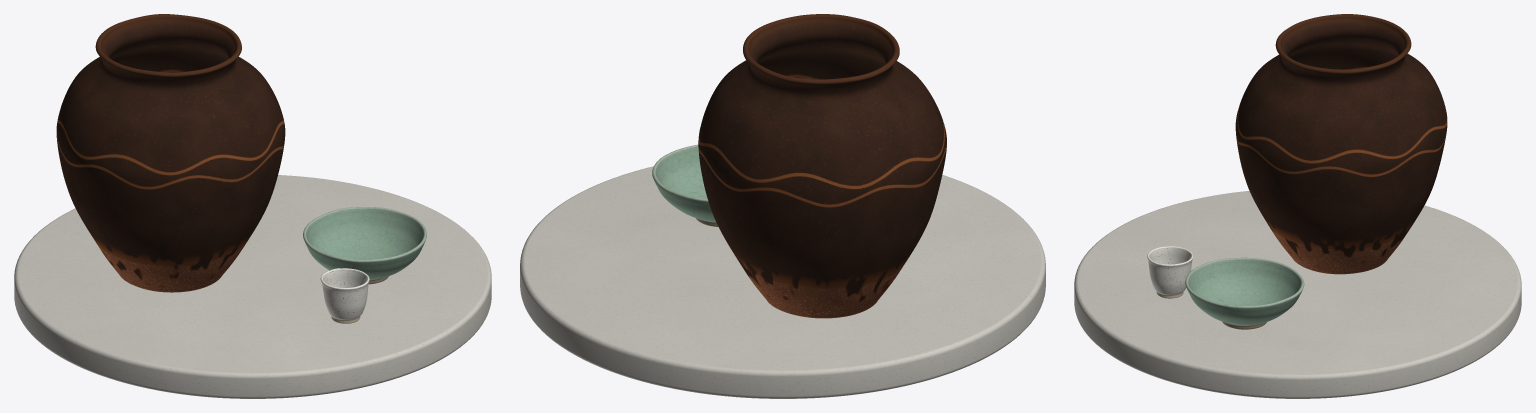
Rendered from onggi-set-blender.glb.
3 views of the same model, side by side, from view 1: azimuth 30°, elevation 25°; view 2: azimuth 150°, elevation 25°; view 3: azimuth 270°, elevation 25° (orthographic). The views are drawn at different scales.
Parts seen in each view (by area): view 1: plinth, jar, bowl, cup; view 2: plinth, jar, bowl; view 3: plinth, jar, bowl, cup.
Boxes of the visible parts, x1,y1,x2,y2 form: plinth: (14,175,491,398); jar: (56,14,285,292); bowl: (303,207,426,284); cup: (320,268,369,323); plinth: (520,166,1045,398); jar: (698,14,946,318); bowl: (652,144,718,226); plinth: (1074,191,1521,398); jar: (1235,14,1447,274); bowl: (1185,257,1304,329); cup: (1147,246,1193,298).
Bounding box in the file's own units: 0.84 × 0.4908 × 0.84.
Materials: 4 (4 with a texture image).
